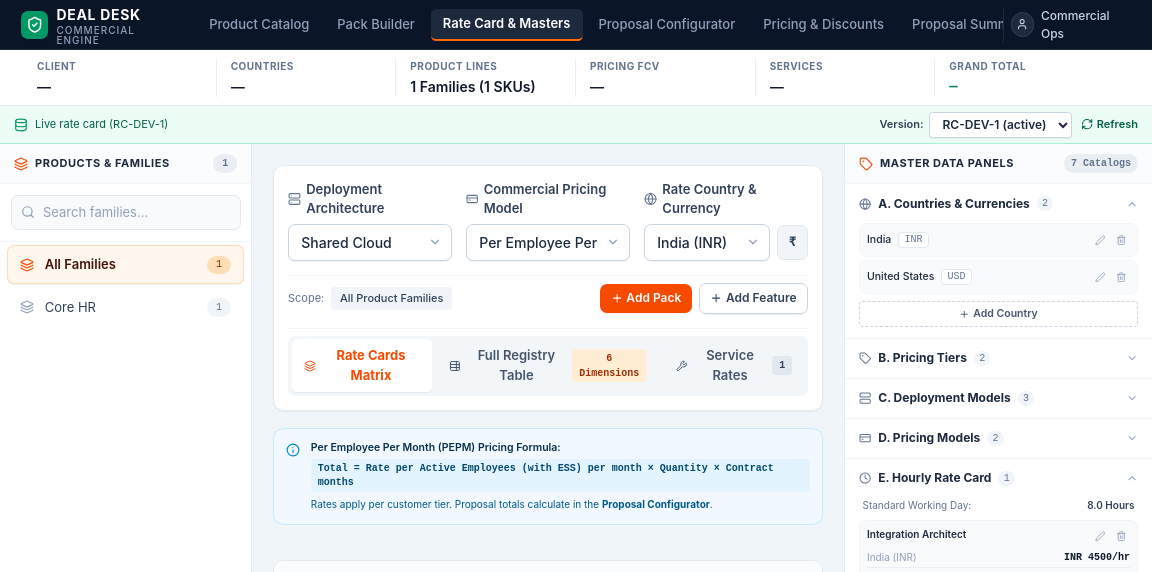
Test case: Rate Card & Masters Integration Tests (Live Backend Wiring) › filters commercial pricing models by selected deployment according to deployment_pricing_options
Expected: the text "Live rate card (RC-DEV-1)" is shown, [35,116,168,133]
// Switch to On-Premise (which has no deployment_pricing_options in backend)
Select "On-Premise" in the dropdown labelled "Deployment Architecture" at (370, 242), box [288,224,452,261]
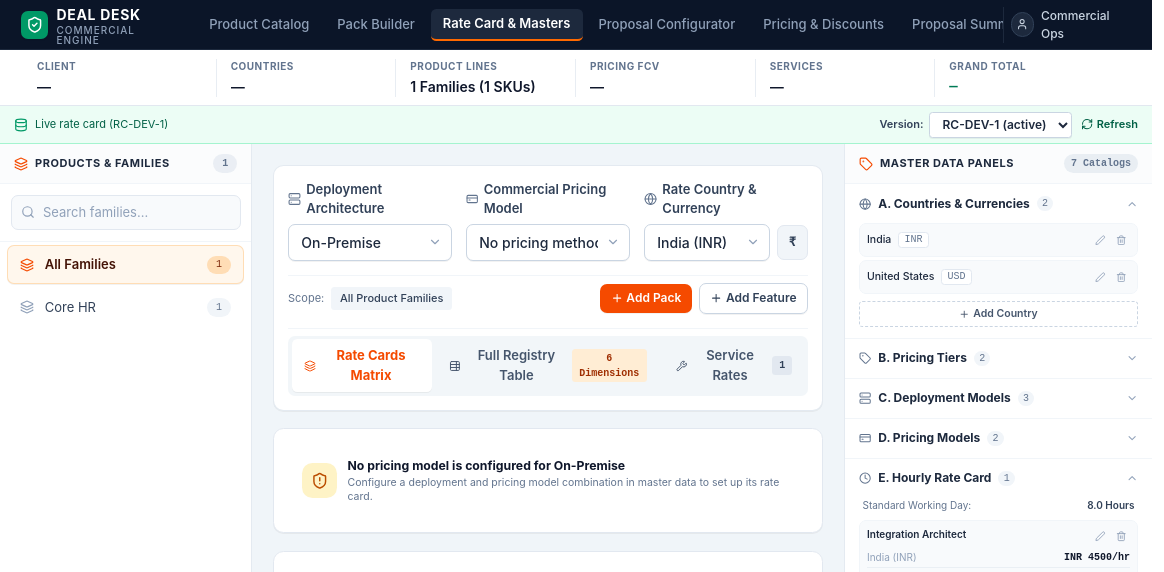
Expected: the heading "No pricing model is configured for On-Premise" is shown, [348,458,625,473]
Expected: the text "Configure a deployment and pricing model combination in master data" is shown, [348,476,779,503]
